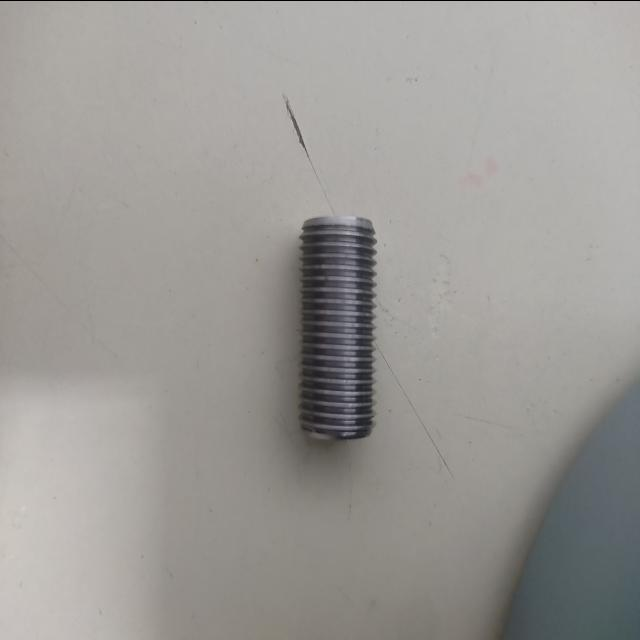Normal: (296, 214, 380, 442)
